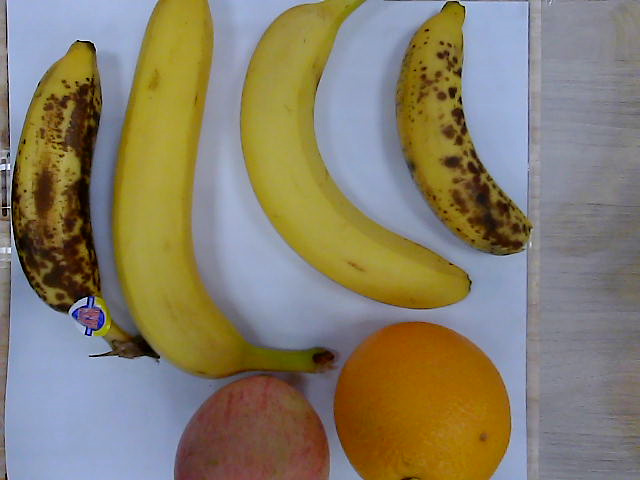fresh_apple: (176, 378, 329, 480)
fresh_banana: (239, 2, 473, 311), (114, 1, 251, 380)
fresh_orange: (333, 321, 514, 480)
rotten_banana: (11, 40, 157, 361), (396, 2, 535, 257)
